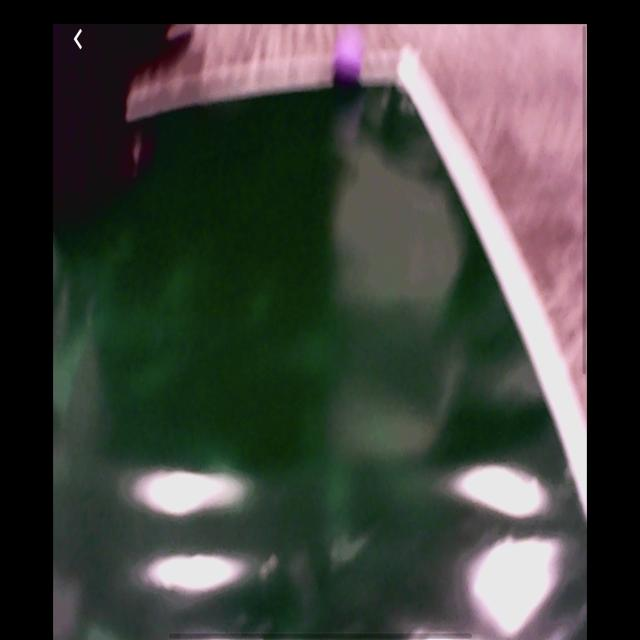ball: (334, 39, 362, 91)
